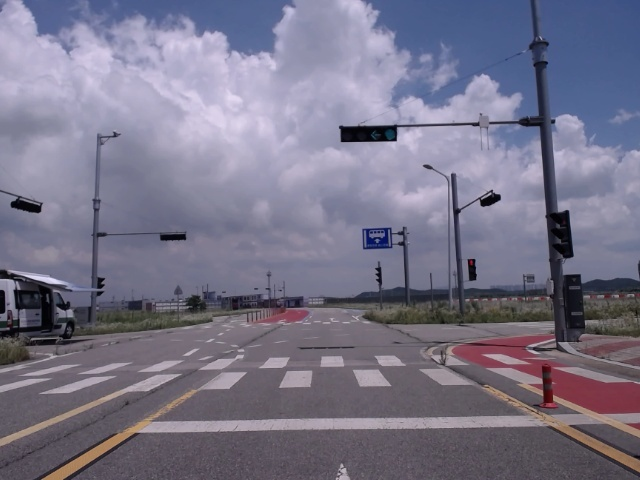all_green_4: (343, 127, 398, 139)
